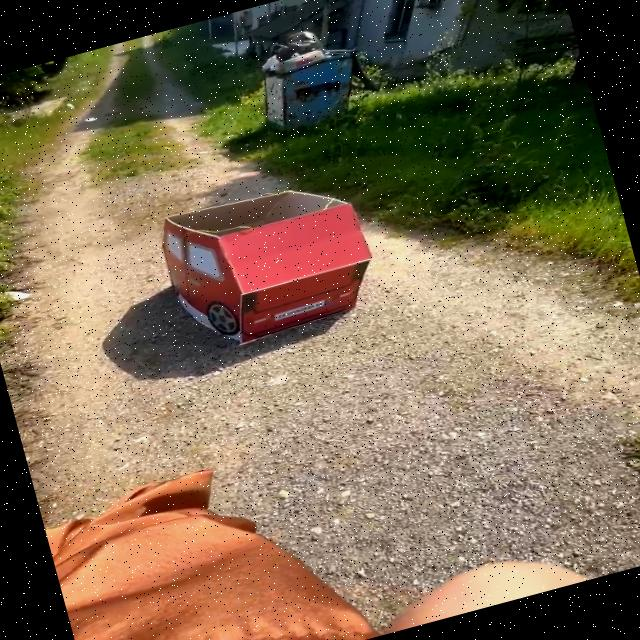red_car: (99, 151, 416, 389)
